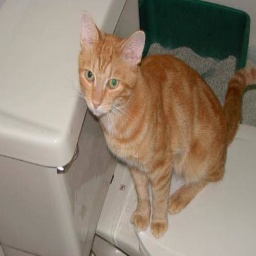cat: (74, 10, 244, 238)
